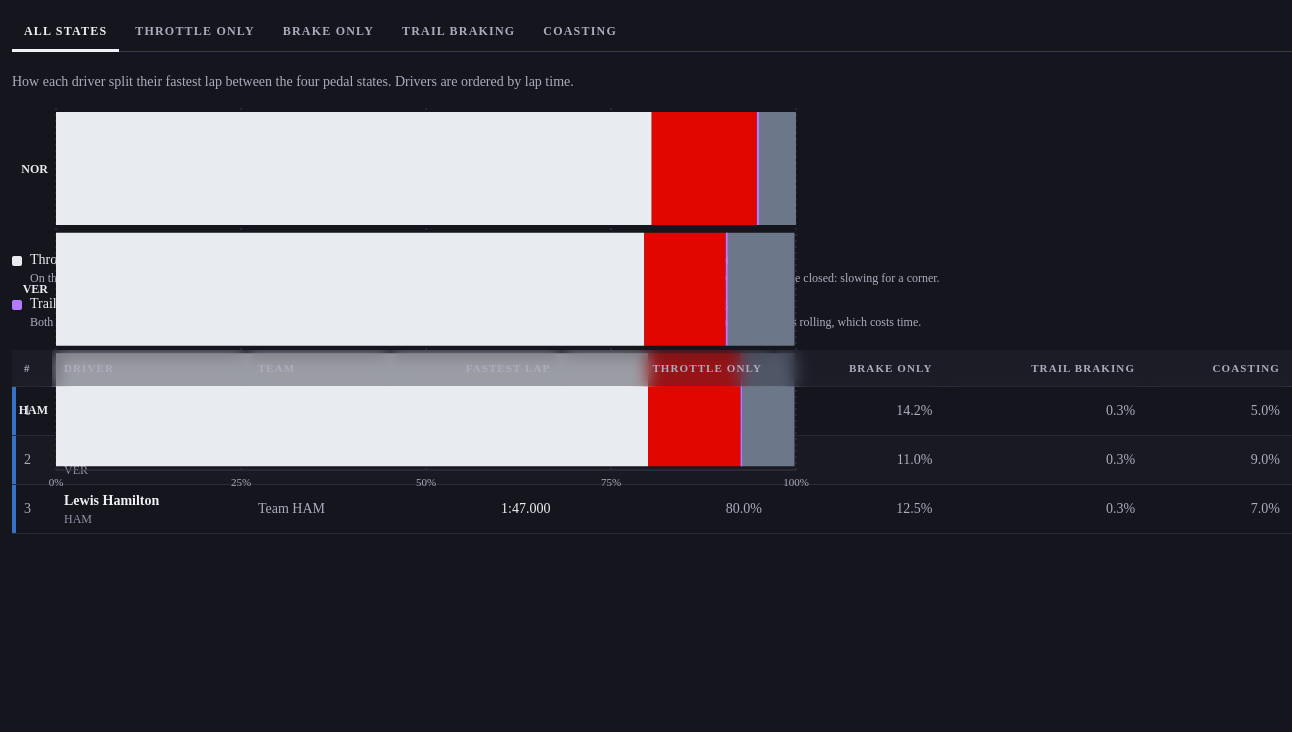
Scenario: PedalChart › can focus on one state and ranks drivers by it
This screenshot has width=1292, height=732.
Click the tab "Brake only" at (328, 32), box [271,12,386,52]
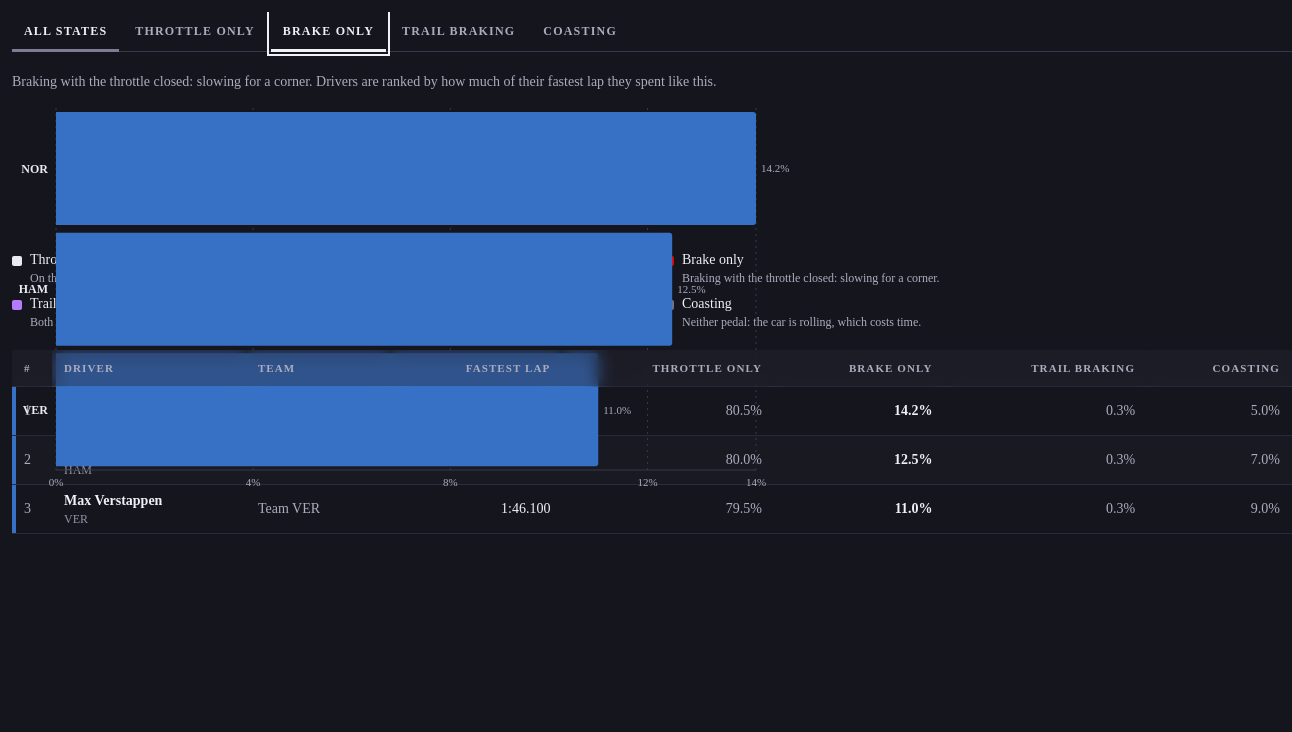
Check: the text "Braking with the throttle closed" is shown, box [12,74,312,89]
